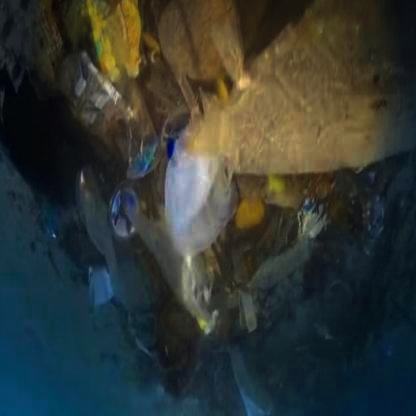can: (99, 175, 154, 236)
plastic: (168, 138, 242, 270)
